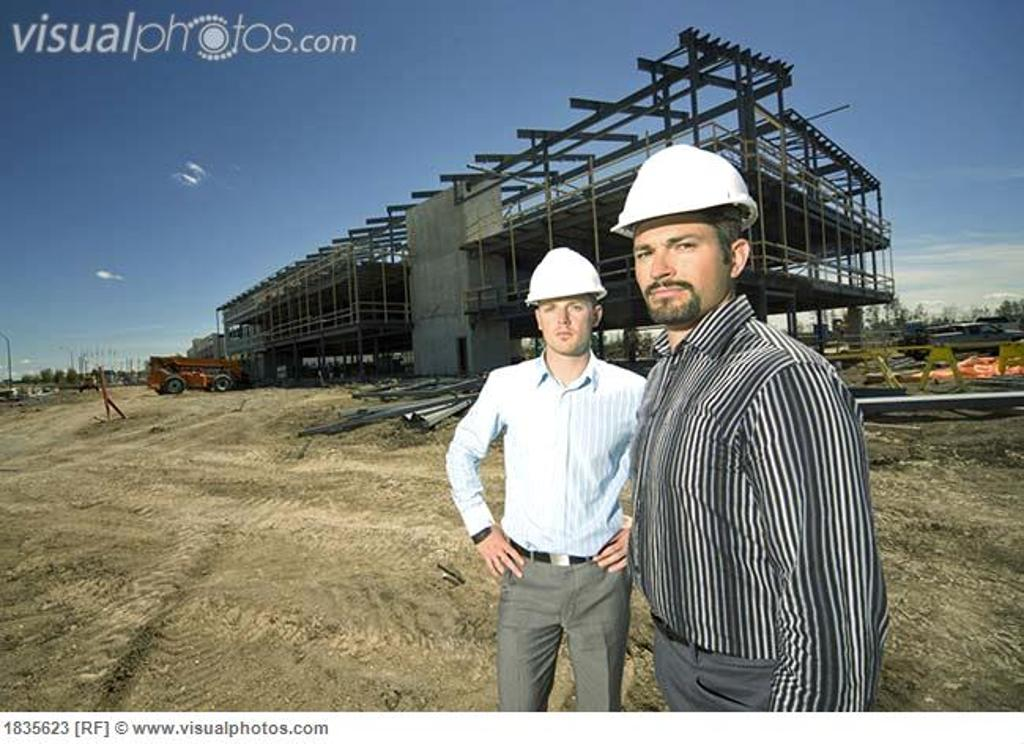face: (632, 198, 714, 318), (536, 274, 592, 352)
